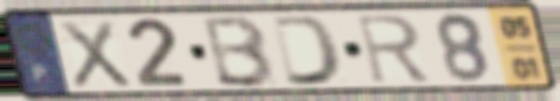2: (129, 15, 195, 91)
8: (433, 11, 491, 85)
B: (202, 13, 279, 90)
D: (268, 13, 345, 88)
R: (353, 12, 435, 86)
X: (55, 18, 135, 90)
